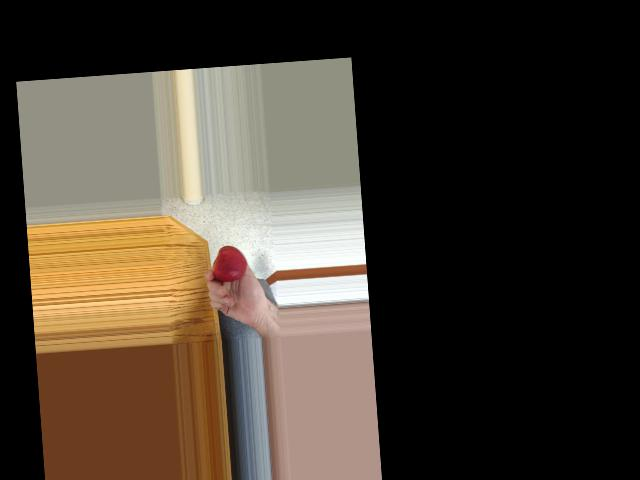apple: (209, 243, 249, 285)
